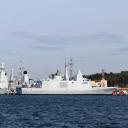Fragata: (15, 48, 121, 97)
